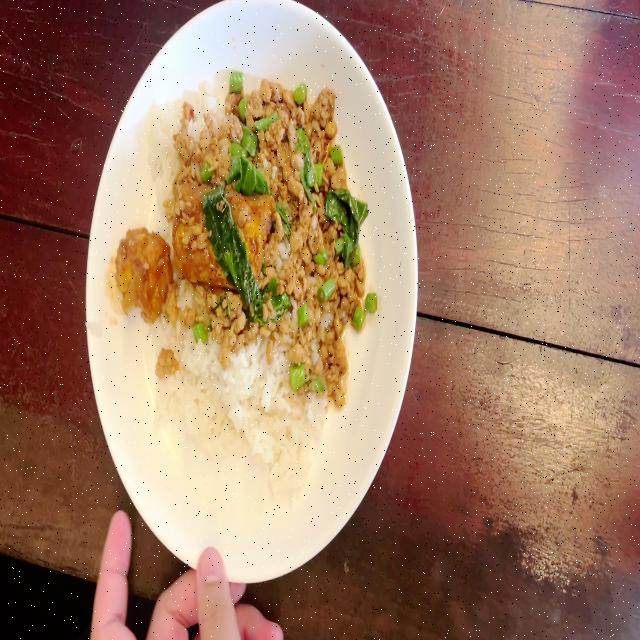fried_tofo: (173, 180, 271, 282), (114, 229, 167, 317)
minced_pork: (181, 70, 350, 187), (271, 182, 358, 408), (170, 285, 281, 353)
rice: (158, 353, 302, 480), (143, 88, 178, 200)
stir_fried_basil: (108, 70, 376, 500)
